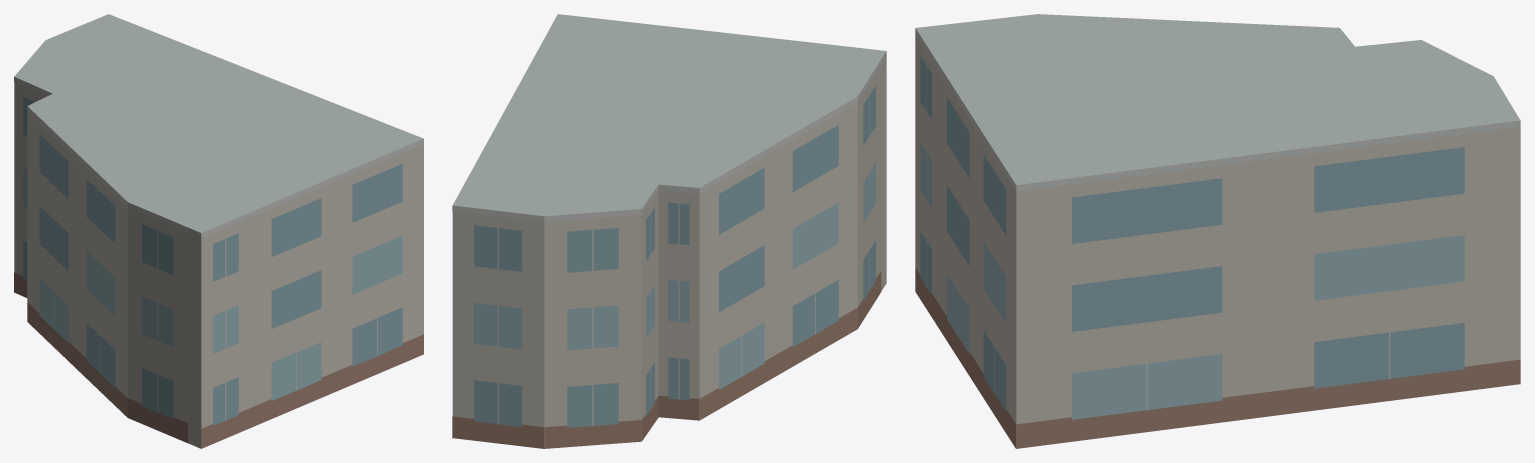
The model's file is survey-upis-32591068.glb.
The picture shows the model from 3 angles, left to right: view 1: azimuth 30°, elevation 25°; view 2: azimuth 150°, elevation 25°; view 3: azimuth 270°, elevation 25°; orthographic projection. The views are drawn at different scales.
Visible parts, largest first — view 1: survey-upis-32591068.tmp; view 2: survey-upis-32591068.tmp; view 3: survey-upis-32591068.tmp.
Part boxes in pixels (bbox=[...]): survey-upis-32591068.tmp: bbox=[14, 14, 423, 448]; survey-upis-32591068.tmp: bbox=[452, 14, 886, 448]; survey-upis-32591068.tmp: bbox=[915, 14, 1520, 448].
Size of the model in its own units: 13.79 by 9.9 by 20.6.
